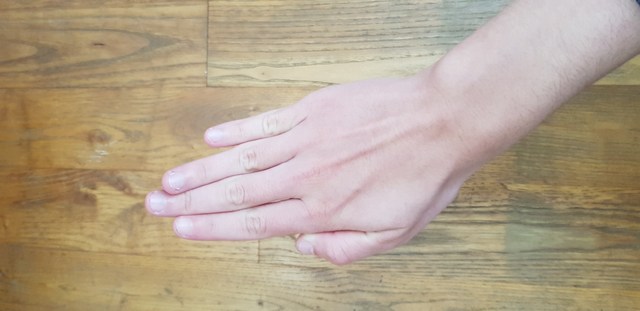Paper: (102, 62, 505, 278)
